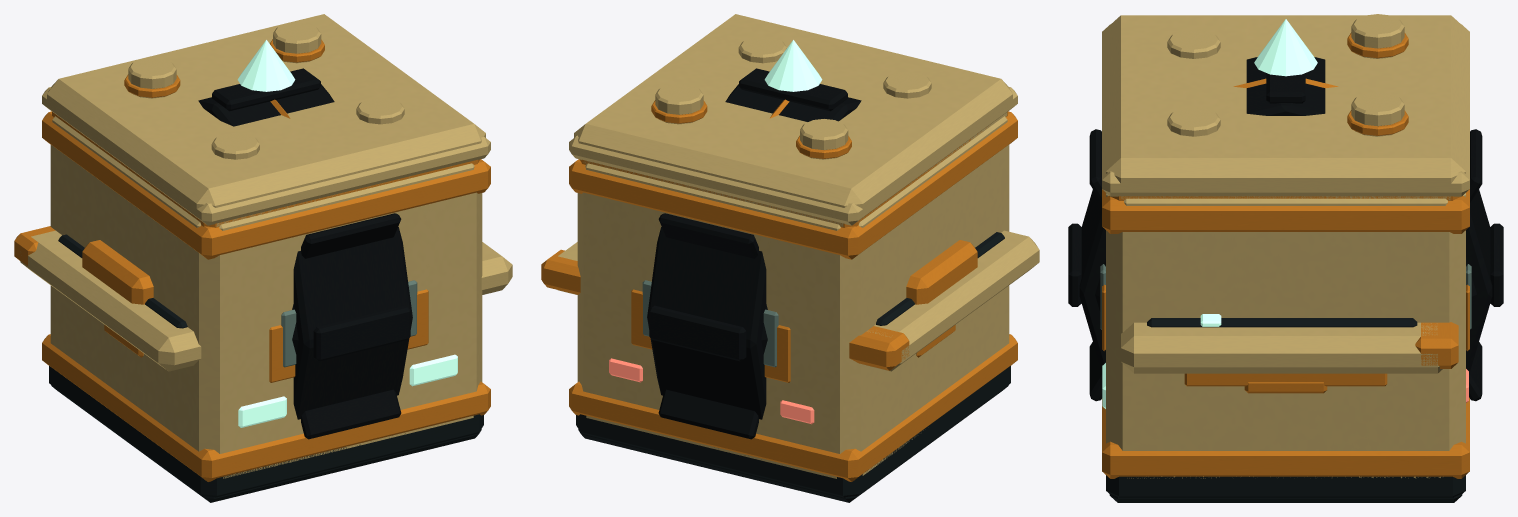
The model's file is machine-kit-lod1.glb.
3 renders of one model, left to right at view 1: azimuth 30°, elevation 25°; view 2: azimuth 150°, elevation 25°; view 3: azimuth 270°, elevation 25°, orthographic. The views are drawn at different scales.
Visible parts, largest first — view 1: frame/body|Warm enamel, cockpit/body|Warm enamel, ballast/body|Warm enamel, wheel/body|Tire rubber, ballast/body|Honey yellow, wing/body|Warm enamel, cockpit/body|Soft graphite, cockpit/studs|Warm enamel, wheel/wheel-fixed|Honey yellow, frame/studs|Warm enamel, cockpit/body|Mint indicator, thruster/body|Mint indicator (+7 smaller); view 2: cockpit/body|Warm enamel, frame/body|Warm enamel, ballast/body|Warm enamel, wheel/body|Tire rubber, ballast/body|Honey yellow, cockpit/body|Soft graphite, wing/body|Warm enamel, wing/body|Honey yellow, cockpit/studs|Warm enamel, wheel/wheel-fixed|Honey yellow, frame/studs|Warm enamel, thruster/body|Mint indicator (+8 smaller); view 3: frame/body|Warm enamel, cockpit/body|Warm enamel, ballast/body|Warm enamel, ballast/body|Honey yellow, wheel/body|Tire rubber, wing/body|Warm enamel, cockpit/body|Soft graphite, cockpit/studs|Warm enamel, frame/body|Honey yellow, frame/studs|Warm enamel, wing/body|Soft graphite, thruster/body|Mint indicator (+6 smaller).
Part boxes in pixels (left/top/right/bottom): frame/body|Warm enamel: left=42, top=86, right=490, bottom=453; cockpit/body|Warm enamel: left=47, top=14, right=485, bottom=210; ballast/body|Warm enamel: left=52, top=116, right=474, bottom=478; wheel/body|Tire rubber: left=198, top=68, right=412, bottom=439; ballast/body|Honey yellow: left=42, top=111, right=490, bottom=481; wing/body|Warm enamel: left=20, top=230, right=512, bottom=371; cockpit/body|Soft graphite: left=49, top=366, right=483, bottom=497; cockpit/studs|Warm enamel: left=128, top=22, right=321, bottom=88; wheel/wheel-fixed|Honey yellow: left=82, top=240, right=153, bottom=304; frame/studs|Warm enamel: left=131, top=58, right=404, bottom=159; cockpit/body|Mint indicator: left=238, top=354, right=457, bottom=427; thruster/body|Mint indicator: left=237, top=40, right=295, bottom=91; cockpit/body|Warm enamel: left=574, top=14, right=1012, bottom=212; frame/body|Warm enamel: left=569, top=86, right=1017, bottom=453; ballast/body|Warm enamel: left=585, top=116, right=1007, bottom=478; wheel/body|Tire rubber: left=647, top=68, right=861, bottom=439; ballast/body|Honey yellow: left=569, top=111, right=1017, bottom=481; cockpit/body|Soft graphite: left=576, top=366, right=1010, bottom=497; wing/body|Warm enamel: left=558, top=230, right=1039, bottom=371; wing/body|Honey yellow: left=541, top=249, right=909, bottom=370; cockpit/studs|Warm enamel: left=655, top=83, right=848, bottom=149; wheel/wheel-fixed|Honey yellow: left=906, top=240, right=977, bottom=304; frame/studs|Warm enamel: left=659, top=36, right=931, bottom=159; thruster/body|Mint indicator: left=764, top=40, right=822, bottom=91; frame/body|Warm enamel: left=1102, top=24, right=1469, bottom=450; cockpit/body|Warm enamel: left=1106, top=15, right=1465, bottom=188; ballast/body|Warm enamel: left=1106, top=193, right=1465, bottom=478; ballast/body|Honey yellow: left=1102, top=189, right=1469, bottom=478; wheel/body|Tire rubber: left=1068, top=57, right=1503, bottom=401; wing/body|Warm enamel: left=1121, top=322, right=1442, bottom=373; cockpit/body|Soft graphite: left=1106, top=475, right=1465, bottom=497; cockpit/studs|Warm enamel: left=1351, top=14, right=1404, bottom=126; frame/body|Honey yellow: left=1102, top=284, right=1469, bottom=386; frame/studs|Warm enamel: left=1167, top=29, right=1400, bottom=136; wing/body|Soft graphite: left=1147, top=318, right=1417, bottom=327; thruster/body|Mint indicator: left=1254, top=19, right=1317, bottom=76.
Size of the model in its own units: 1.2 by 1.34 by 1.16.
Materials: 8 (5 with a texture image).
